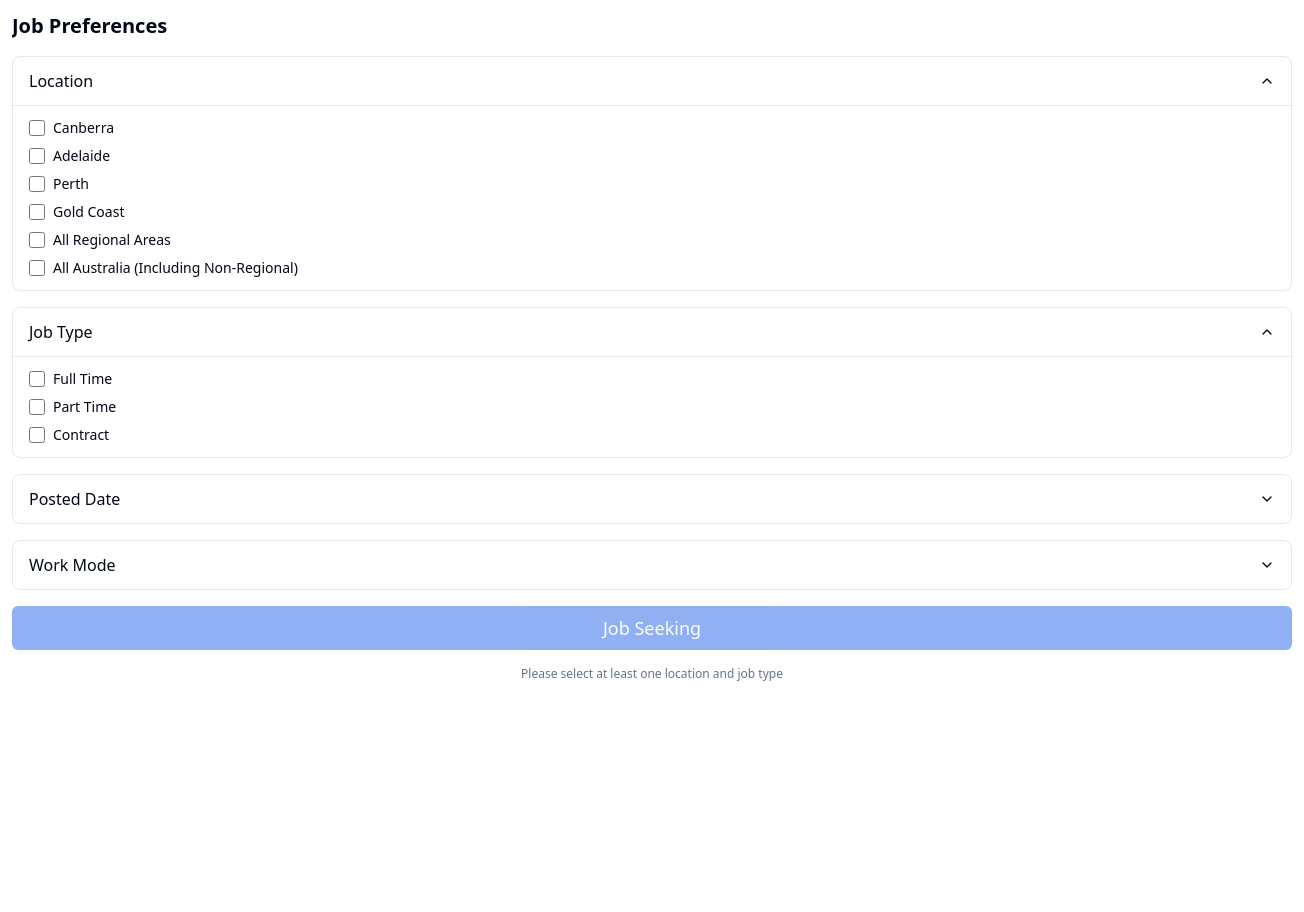
Test: JobFilterPanel › 应该渲染所有远程选项
The image size is (1304, 912).
# Open Work Mode section first
Click the button "Work Mode": (72, 565) x1=13 y1=541 x2=1291 y2=589
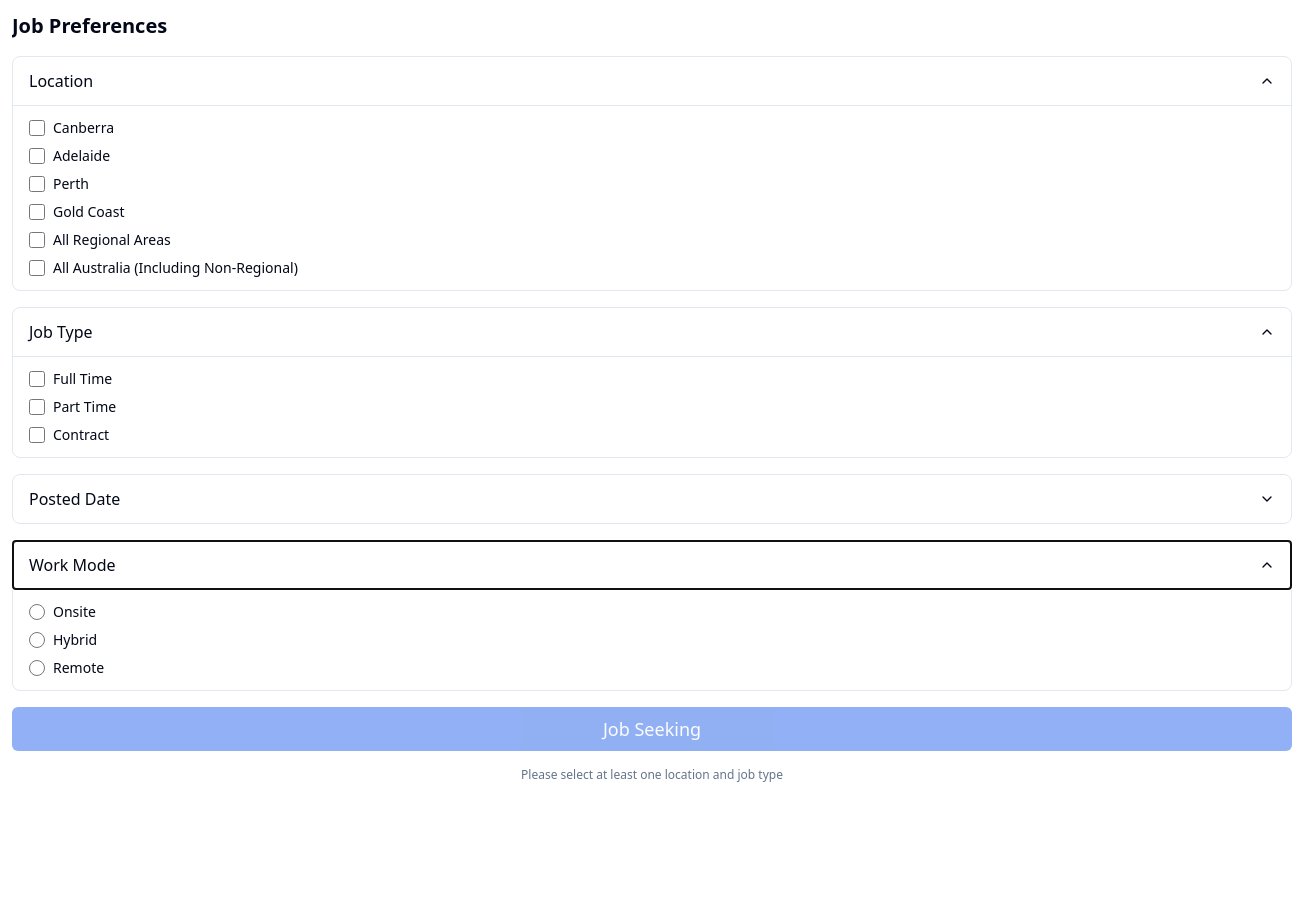
Expected: the radio button labelled "Onsite" is shown, x1=29 y1=604 x2=45 y2=620
Expected: the radio button labelled "Hybrid" is shown, x1=29 y1=632 x2=45 y2=648
Expected: the radio button labelled "Remote" is shown, x1=29 y1=660 x2=45 y2=676
